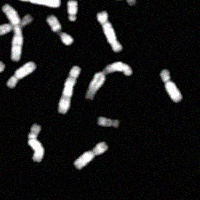chromosome: (85, 61, 132, 101), (1, 4, 22, 61), (57, 65, 80, 114), (97, 11, 123, 52), (73, 140, 108, 169), (46, 13, 73, 46), (7, 61, 36, 90), (160, 69, 182, 102), (27, 123, 45, 163), (0, 13, 31, 36), (16, 0, 61, 7), (66, 0, 77, 22), (99, 117, 119, 129), (0, 60, 6, 92), (124, 0, 137, 7)
